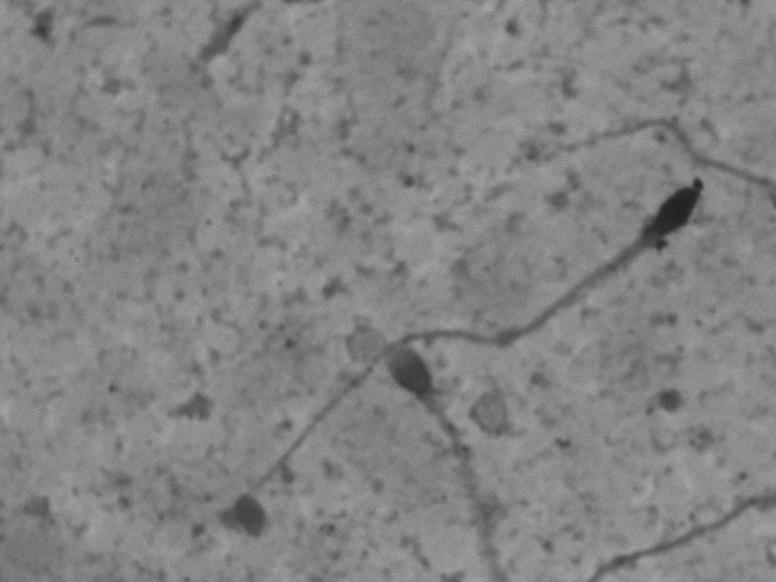Abnormal: (207, 165, 718, 522)
